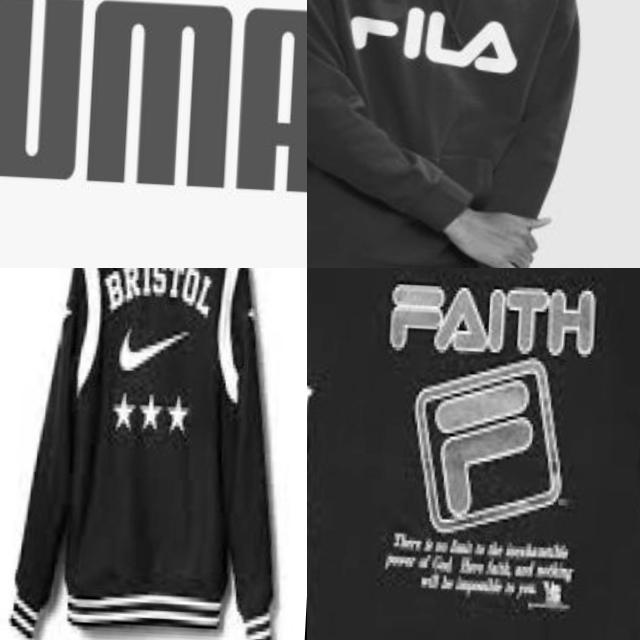FILA_fake: (360, 268, 620, 549)
FILA_original: (324, 0, 534, 95)
NIKE_original: (113, 314, 198, 398)
